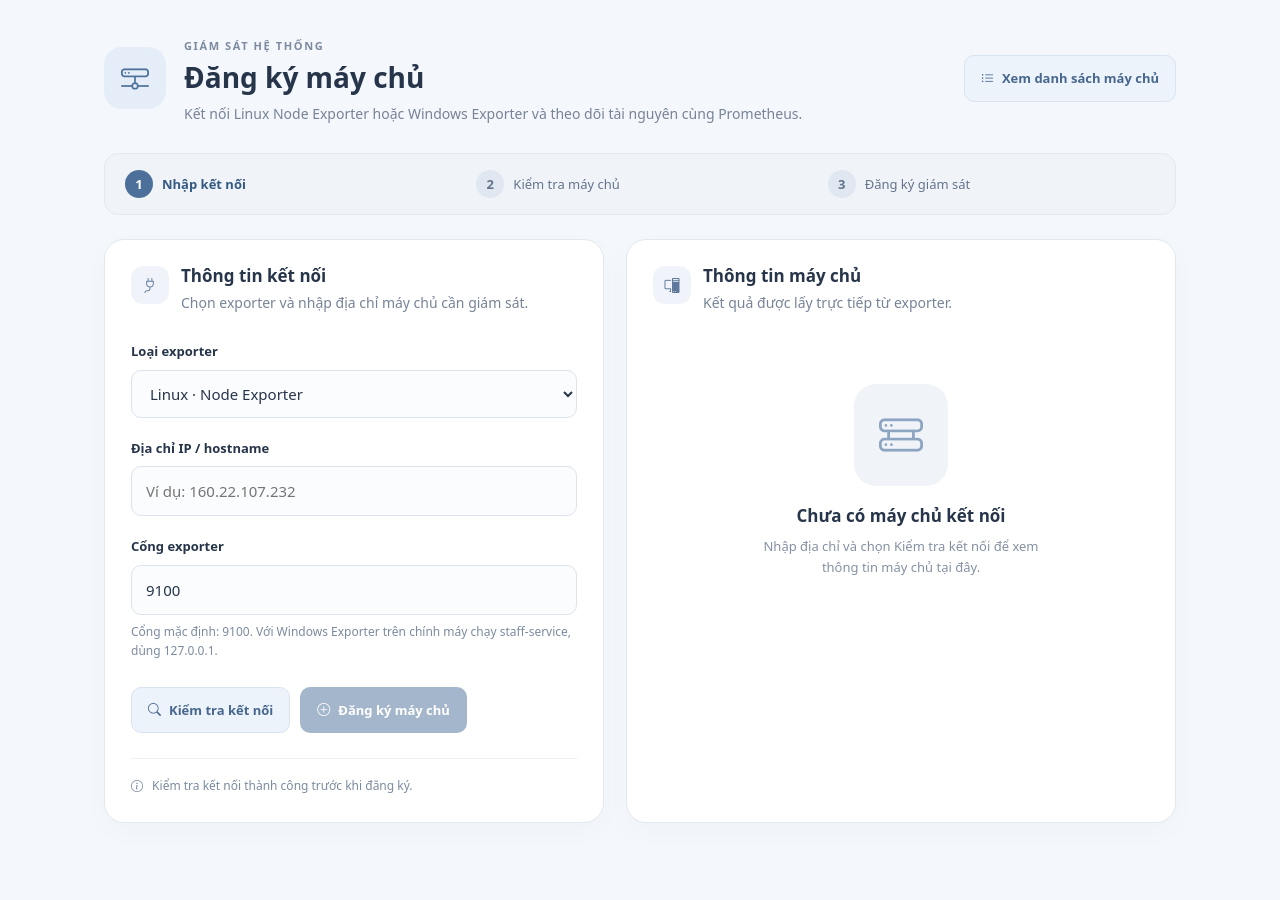
it: shows duplicate errors above the form and keeps discovered information for retry
The width and height of the screenshot is (1280, 900).
Type "160.22.107.232" into the field labelled "Địa chỉ IP / hostname" at (354, 491), box [131,466,577,516]
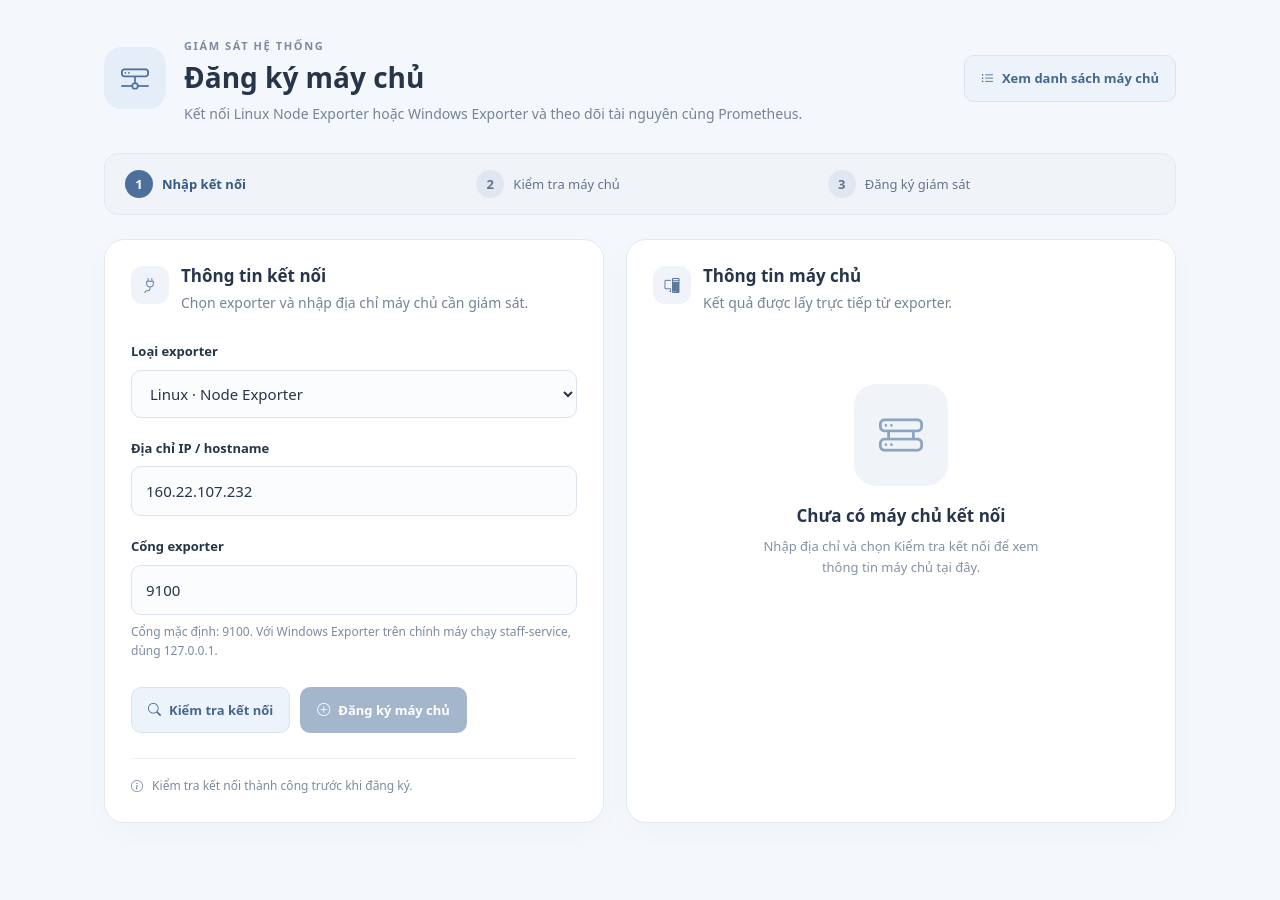
Submit the form, box [131,341,577,733]
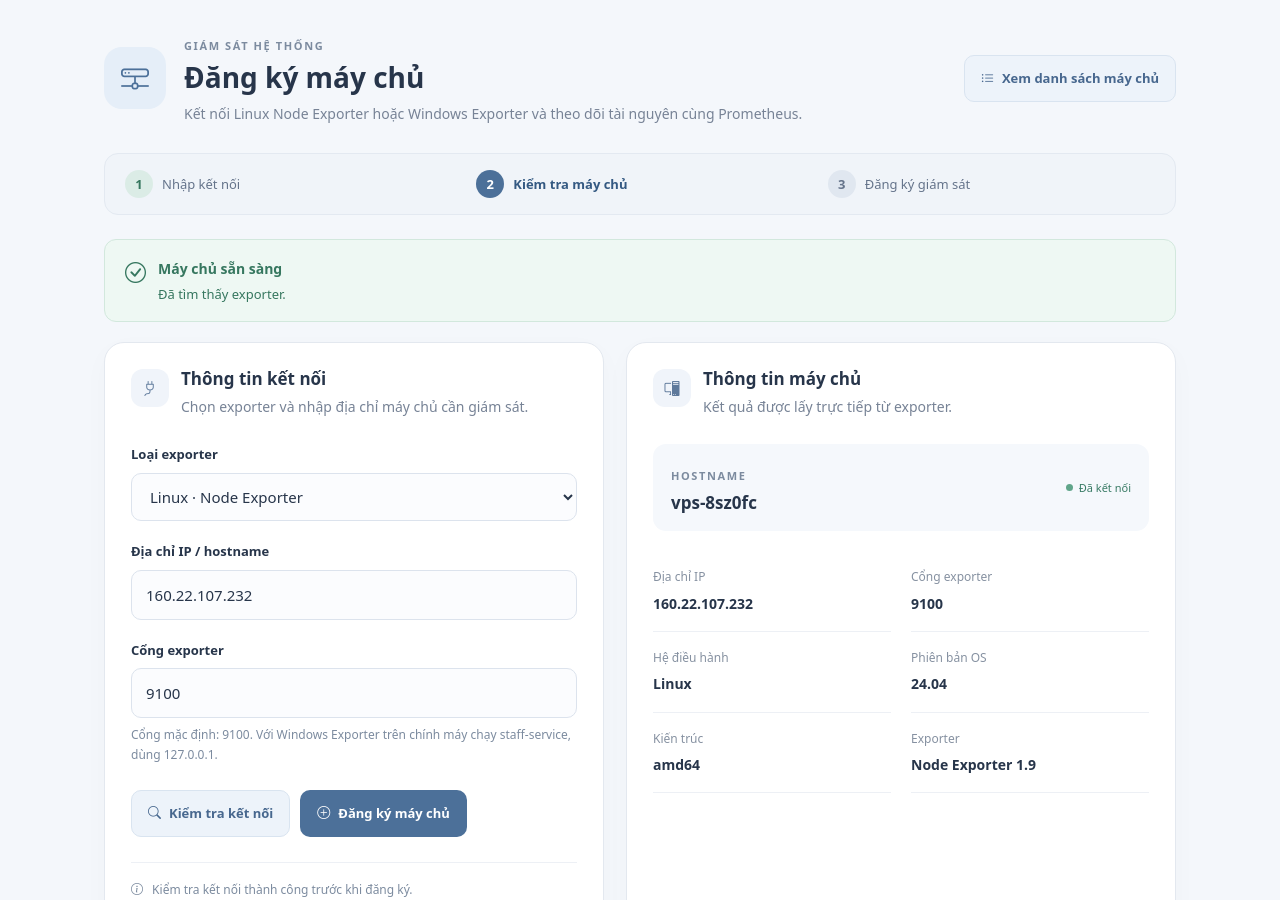
Click the button with class "btn-register" at (384, 813), box [300,790,467,836]
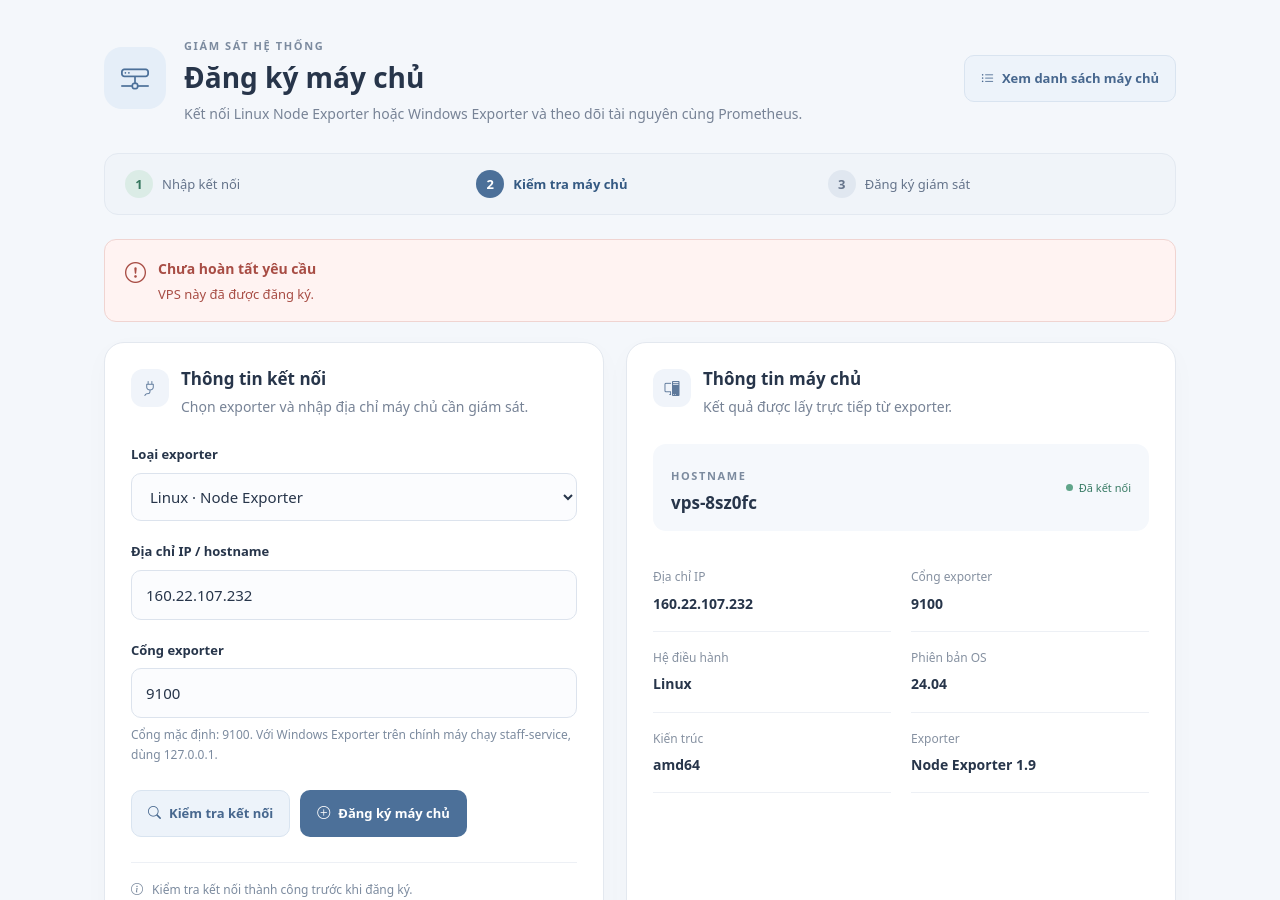
Expected: the element with class "server-summary" shows "vps-8sz0fc", [671,491,757,514]
Expected: the message "Chưa hoàn tất yêu cầu VPS này đã được đăng ký." is shown, [104,239,1176,322]
